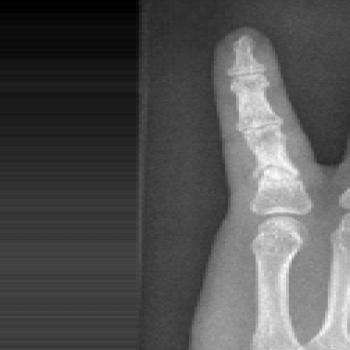Fracture: (243, 162, 313, 182)
